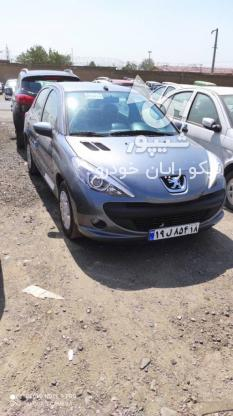car: (147, 221, 202, 243)
